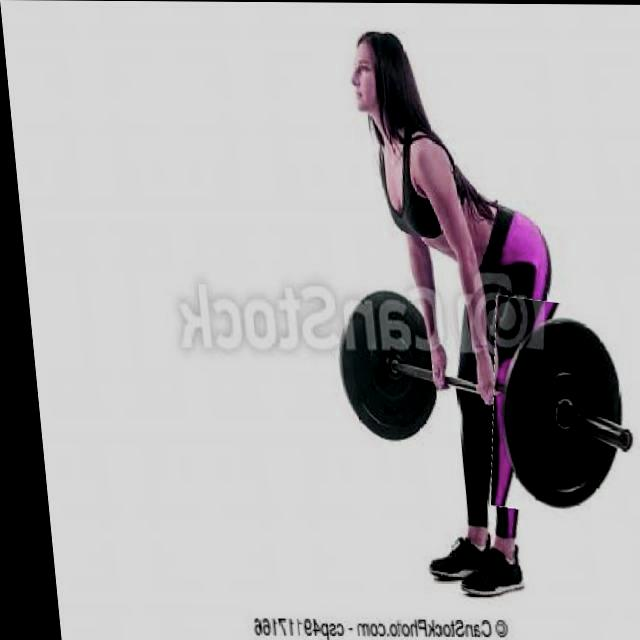barbell: (472, 300, 640, 520)
